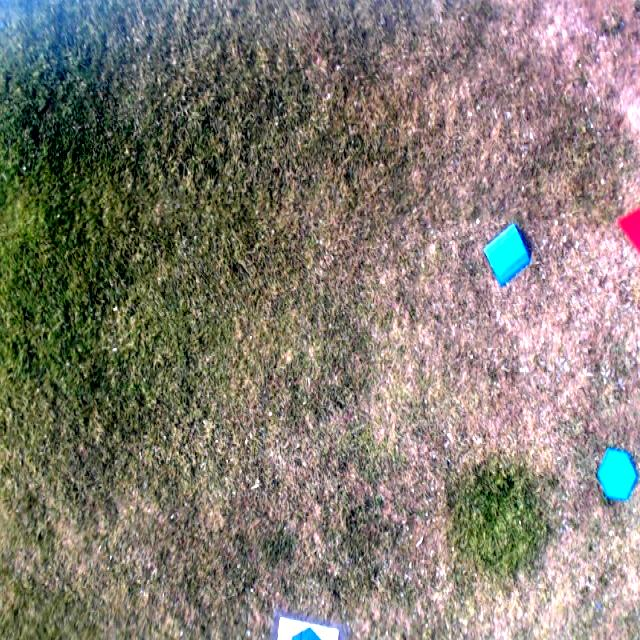blue_hexagon: (597, 445, 636, 501)
blue_square: (486, 224, 532, 286)
